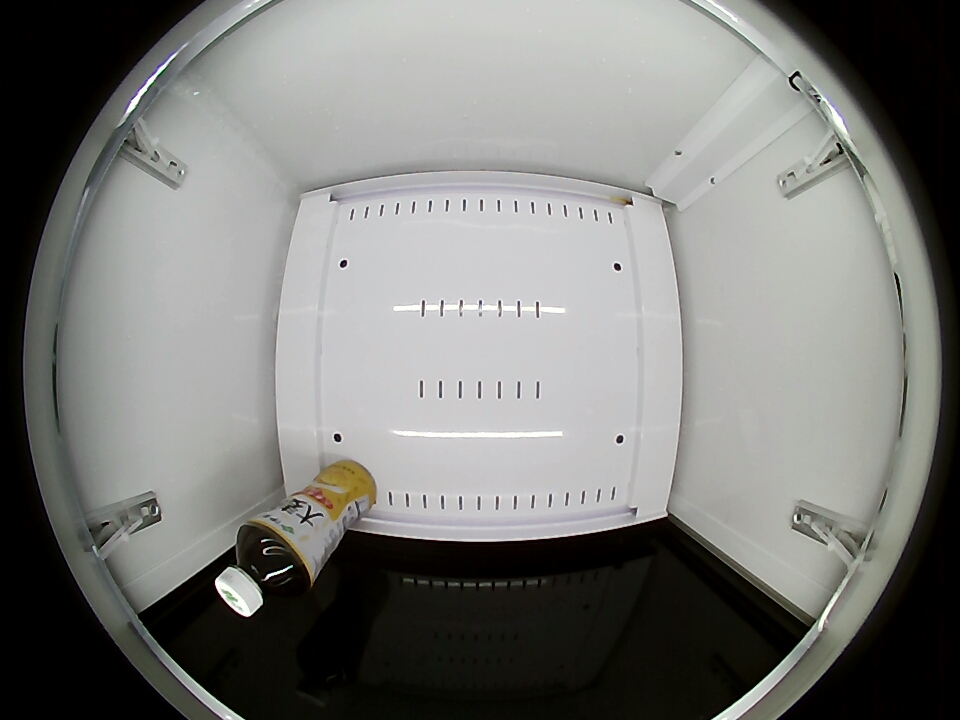damaicha: (215, 521, 312, 617)
